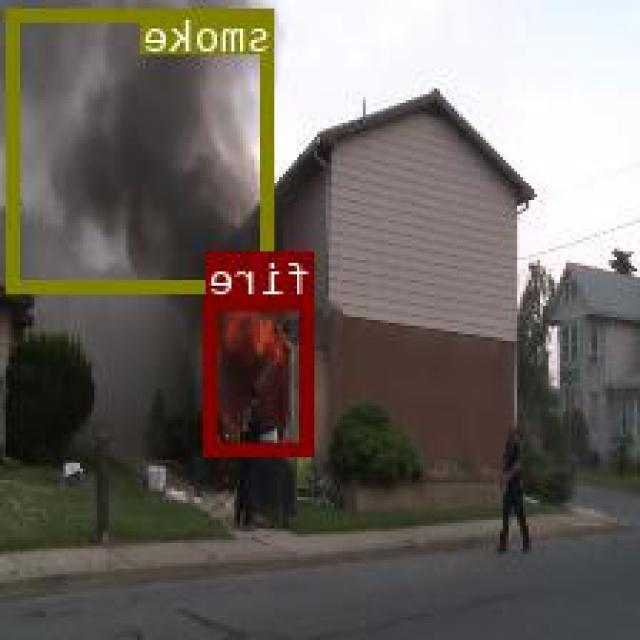fire: (208, 297, 314, 454)
smoke: (11, 7, 275, 290)
